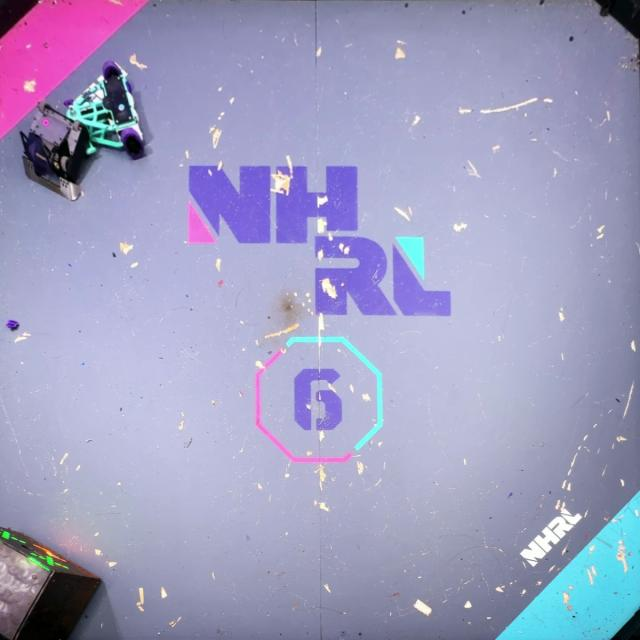housebot: (0, 529, 109, 640)
robot: (61, 60, 149, 160), (18, 102, 92, 203)
